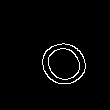O_NW: (21, 23, 89, 87)
